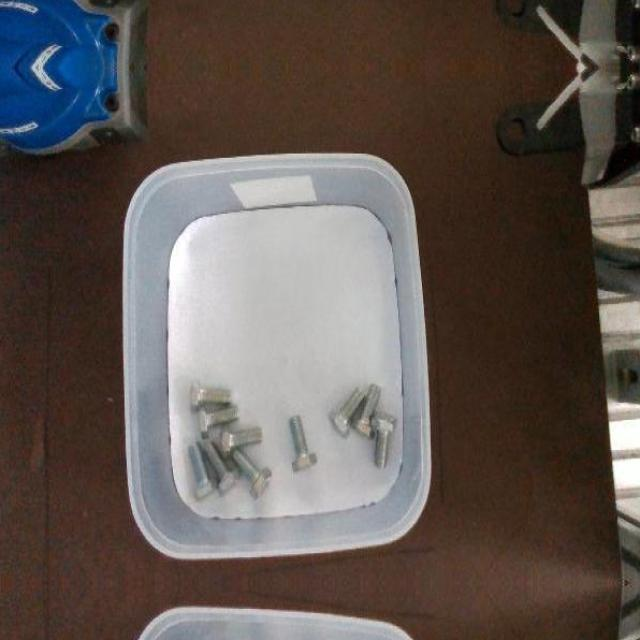screw: (232, 447, 273, 500), (204, 440, 241, 494), (187, 440, 218, 499), (329, 388, 365, 438), (350, 382, 380, 438), (289, 416, 318, 473), (370, 410, 398, 469), (221, 420, 262, 458), (198, 404, 240, 438), (191, 377, 232, 411)
